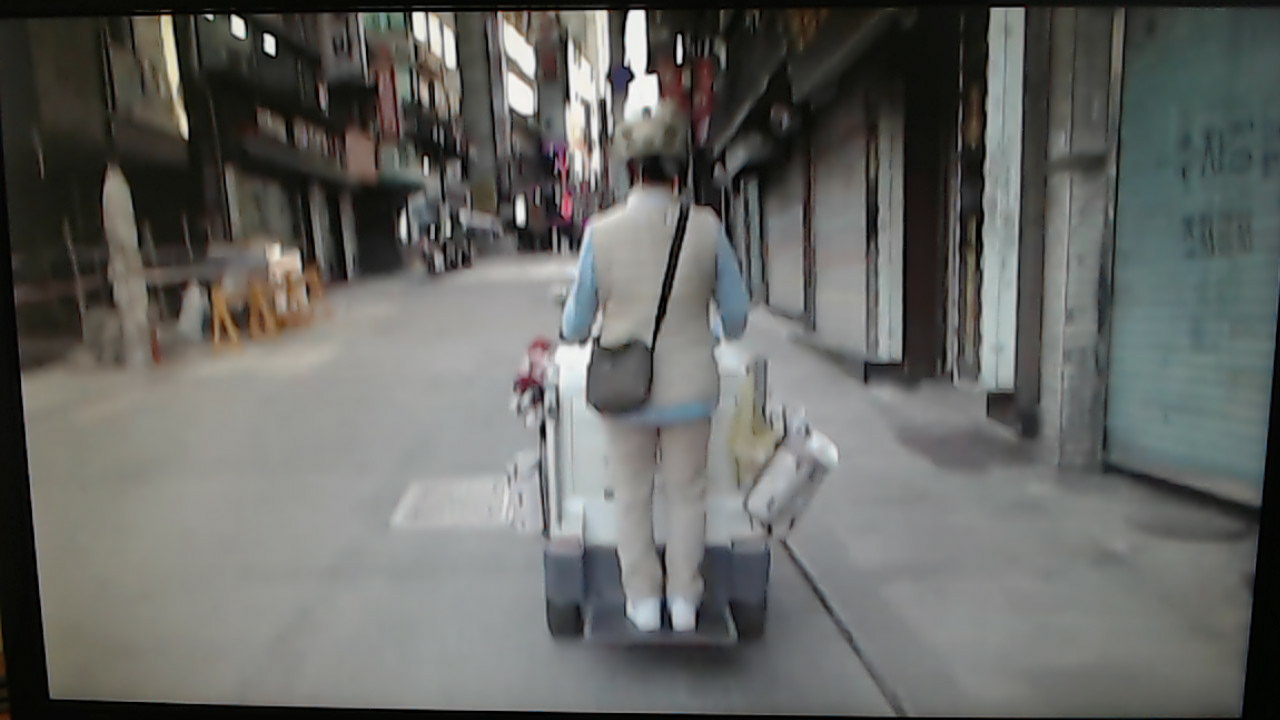Yakurut: (553, 106, 762, 647)
